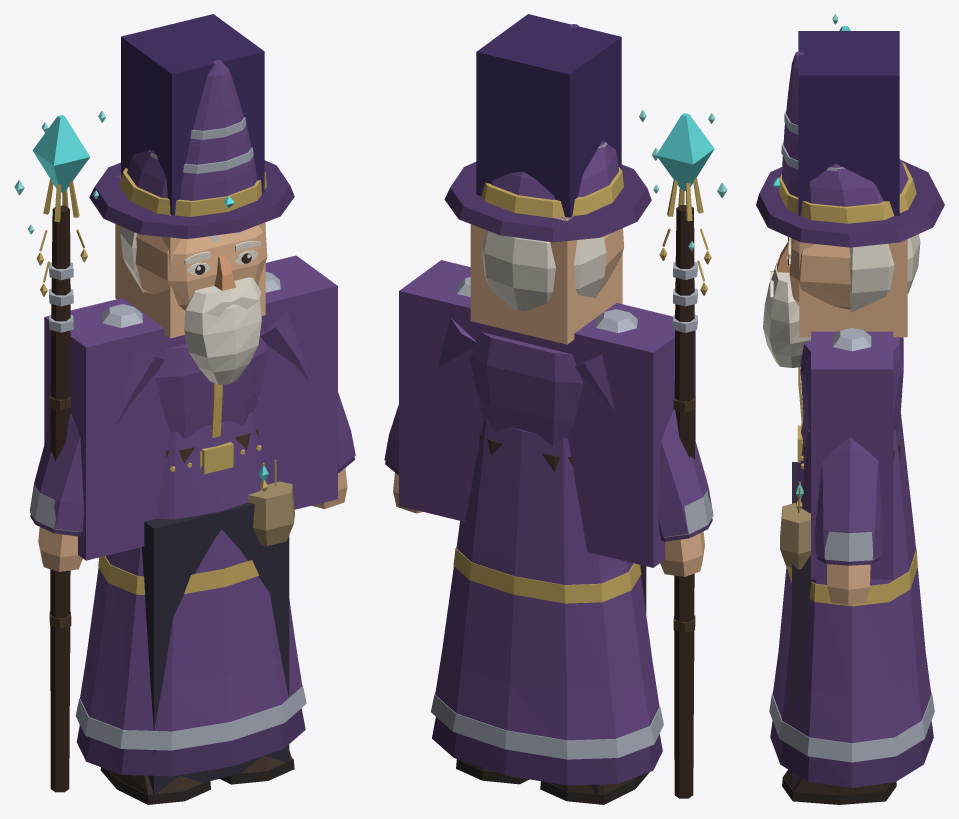
Rendered from kadro-dede_toygar.obj.
3 renders of one model, left to right at view 1: azimuth 30°, elevation 25°; view 2: azimuth 150°, elevation 25°; view 3: azimuth 270°, elevation 25°, orthographic. The views are drawn at different scales.
Parts seen in each view (by area): view 1: ocakcan-uzak-govde, ocakcan-etek-destansi-efsanevi, ocakcan-uzak-baslik, ocakcan-uzak-bacak, ocakcan-asa-destansi-efsanevi, ocakcan-sapka-destansi-efsanevi, ocakcan-kollar, ocakcan-sapka-kenari-destansi-efsanevi, ocakcan-sakal-destansi-efsanevi, ocakcan-govde, ocakcan-etek-kaplamasi-destansi-efsanevi, ocakcan-kafa (+16 smaller); view 2: ocakcan-etek-destansi-efsanevi, ocakcan-uzak-govde, ocakcan-uzak-baslik, ocakcan-govde, ocakcan-asa-destansi-efsanevi, ocakcan-uzak-kafa, ocakcan-sapka-kenari-destansi-efsanevi, ocakcan-sac, ocakcan-kollar, ocakcan-etek-kaplamasi-destansi-efsanevi, ocakcan-etek-kenari-destansi-efsanevi, ocakcan-etek-nakis-destansi-efsanevi (+10 smaller); view 3: ocakcan-etek-destansi-efsanevi, ocakcan-uzak-baslik, ocakcan-uzak-govde, ocakcan-kollar, ocakcan-sapka-kenari-destansi-efsanevi, ocakcan-uzak-kafa, ocakcan-etek-kaplamasi-destansi-efsanevi, ocakcan-sapka-destansi-efsanevi, ocakcan-etek-kenari-destansi-efsanevi, ocakcan-kafa, ocakcan-sac, ocakcan-sakal-destansi-efsanevi (+11 smaller).
Boxes of the visible parts, box(x1,y1,x2,y2) form: ocakcan-uzak-govde: box(44, 255, 337, 560); ocakcan-etek-destansi-efsanevi: box(80, 412, 302, 731); ocakcan-uzak-baslik: box(121, 14, 264, 215); ocakcan-uzak-bacak: box(141, 502, 289, 794); ocakcan-asa-destansi-efsanevi: box(50, 205, 70, 792); ocakcan-sapka-destansi-efsanevi: box(127, 60, 256, 200); ocakcan-kollar: box(29, 311, 355, 531); ocakcan-sapka-kenari-destansi-efsanevi: box(89, 160, 294, 239); ocakcan-sakal-destansi-efsanevi: box(184, 277, 261, 384); ocakcan-govde: box(155, 332, 268, 439); ocakcan-etek-kaplamasi-destansi-efsanevi: box(77, 708, 305, 776); ocakcan-kafa: box(135, 225, 267, 310); ocakcan-etek-destansi-efsanevi: box(435, 418, 659, 740); ocakcan-uzak-govde: box(399, 260, 695, 567); ocakcan-uzak-baslik: box(476, 14, 621, 217); ocakcan-govde: box(469, 332, 583, 446); ocakcan-asa-destansi-efsanevi: box(674, 205, 694, 798); ocakcan-uzak-kafa: box(470, 197, 622, 344); ocakcan-sapka-kenari-destansi-efsanevi: box(444, 162, 651, 242); ocakcan-sac: box(482, 230, 606, 311); ocakcan-kollar: box(384, 318, 713, 537); ocakcan-etek-kaplamasi-destansi-efsanevi: box(432, 717, 662, 785); ocakcan-etek-kenari-destansi-efsanevi: box(431, 693, 663, 759); ocakcan-etek-nakis-destansi-efsanevi: box(453, 547, 641, 603); ocakcan-etek-destansi-efsanevi: box(773, 412, 931, 743); ocakcan-uzak-baslik: box(798, 31, 899, 215); ocakcan-uzak-govde: box(811, 331, 893, 579); ocakcan-kollar: box(804, 357, 900, 559); ocakcan-sapka-kenari-destansi-efsanevi: box(756, 160, 944, 247); ocakcan-uzak-kafa: box(799, 239, 907, 337); ocakcan-etek-kaplamasi-destansi-efsanevi: box(770, 721, 933, 787); ocakcan-sapka-destansi-efsanevi: box(782, 51, 908, 206); ocakcan-etek-kenari-destansi-efsanevi: box(769, 691, 934, 762); ocakcan-kafa: box(789, 238, 850, 309); ocakcan-sac: box(849, 234, 920, 312); ocakcan-sakal-destansi-efsanevi: box(763, 258, 810, 367).
Size of the model in its own units: 23.98 by 49.6 by 11.92.
